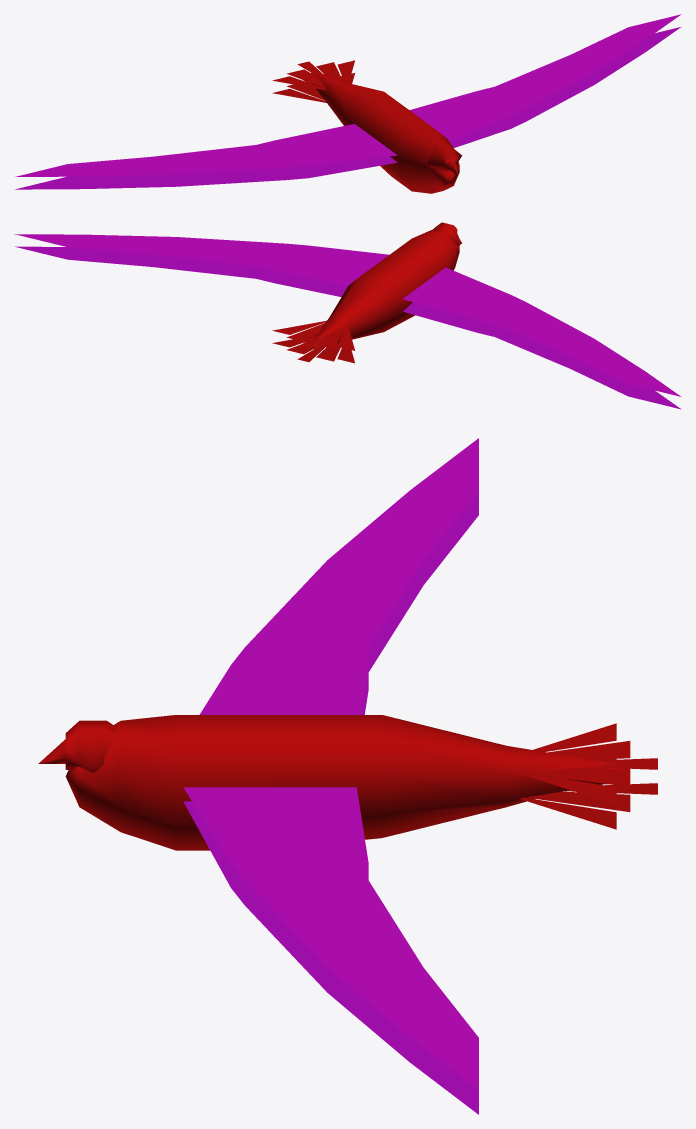
The model's file is swift.glb.
3 views of the same model, one above another, from view 1: azimuth 30°, elevation 25°; view 2: azimuth 150°, elevation 25°; view 3: azimuth 270°, elevation 25° (orthographic). The views are drawn at different scales.
Parts seen in each view (by area): view 1: bird; view 2: bird; view 3: bird.
Part boxes in pixels (x1=…): bird: x1=15, y1=14, x2=681, y2=193; bird: x1=14, y1=222, x2=681, y2=409; bird: x1=38, y1=438, x2=657, y2=1114.
Bounding box in the file's own units: 0.4375 × 0.0352 × 0.1758.
